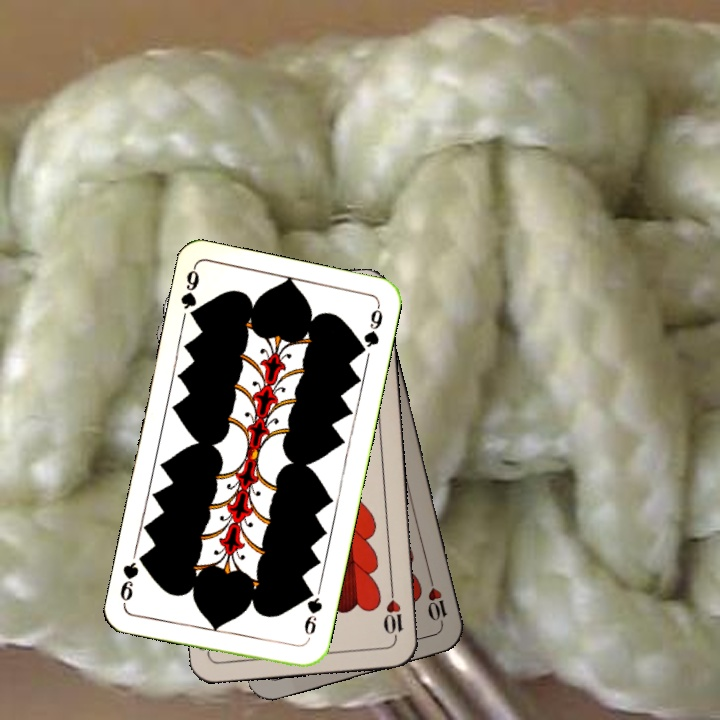G9: (176, 263, 202, 324), (300, 584, 325, 638)
H10: (424, 571, 450, 629), (380, 583, 405, 642)
